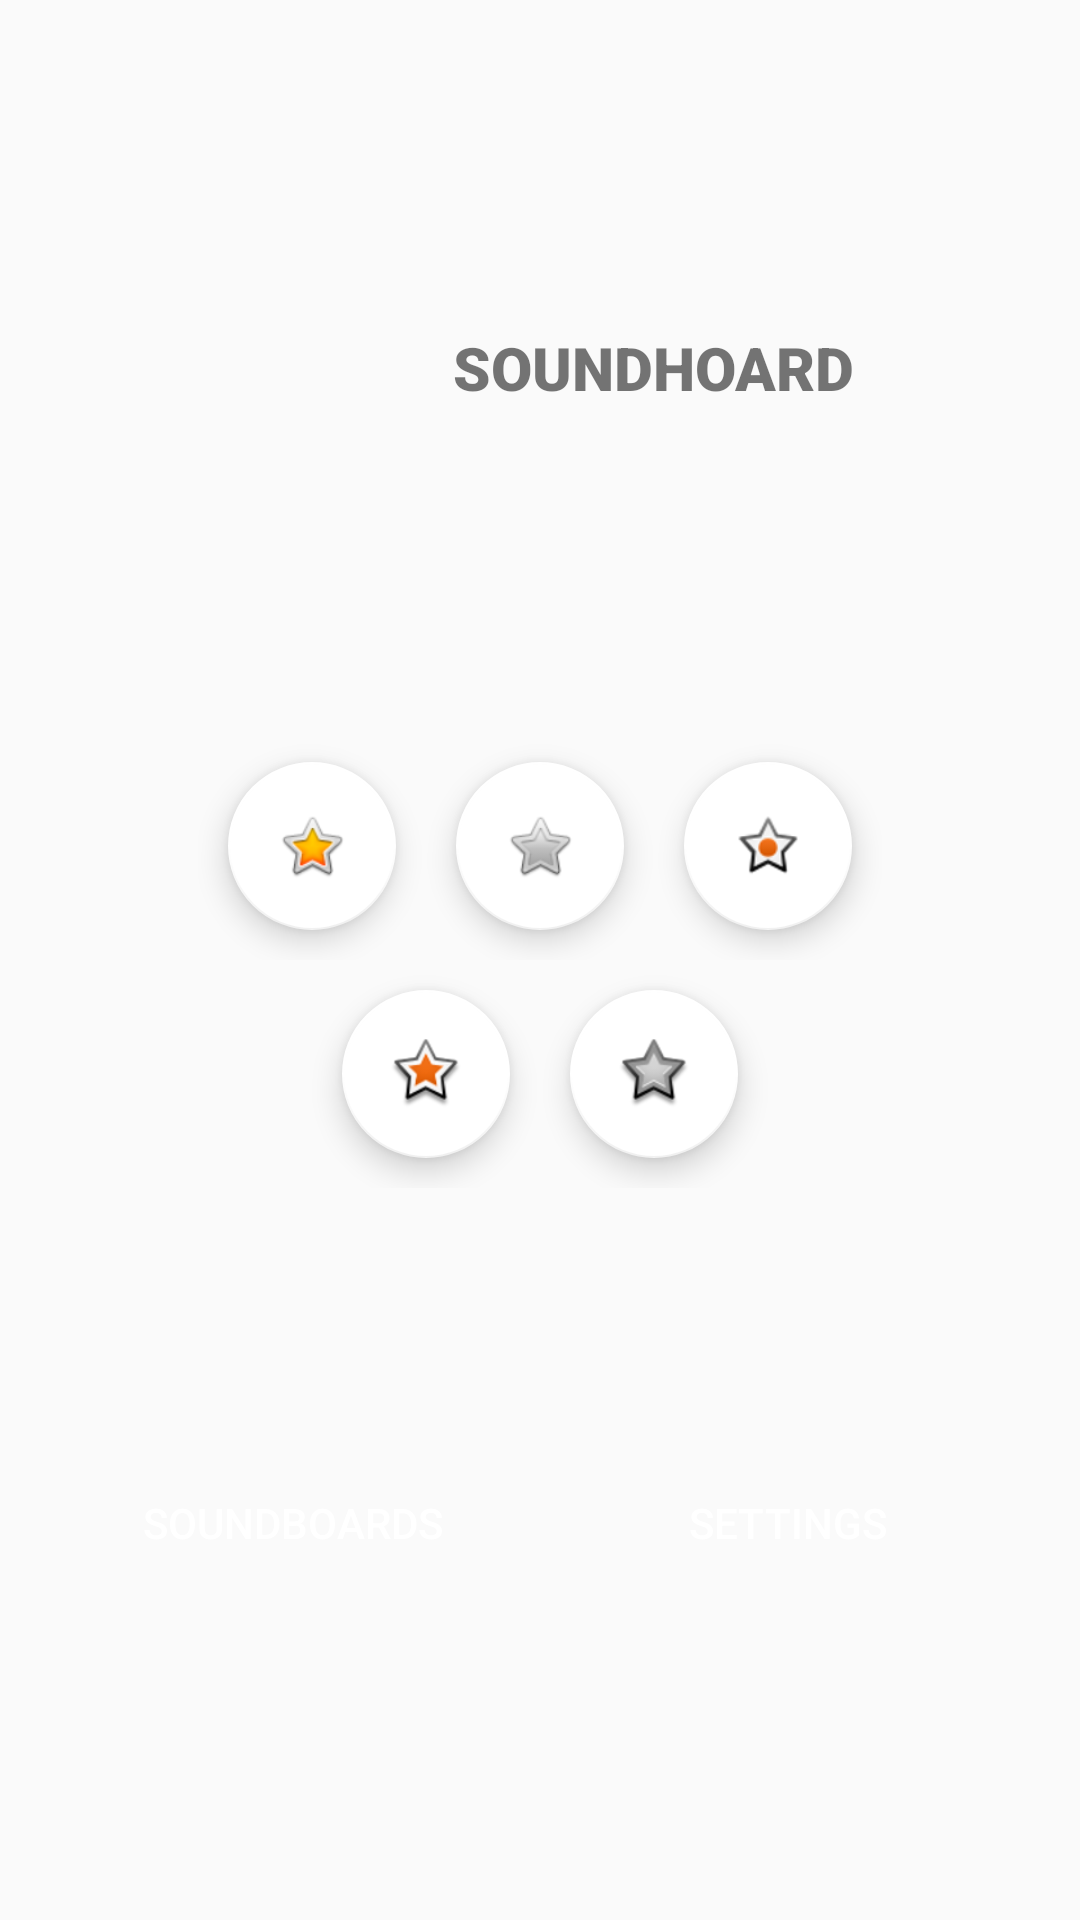

Named icons in this screenshot (1080×1920) and their bounding boxes, detection(x1, y1, x2, y2):
star: detection(511, 817, 571, 876)
star off: detection(622, 1039, 686, 1104)
